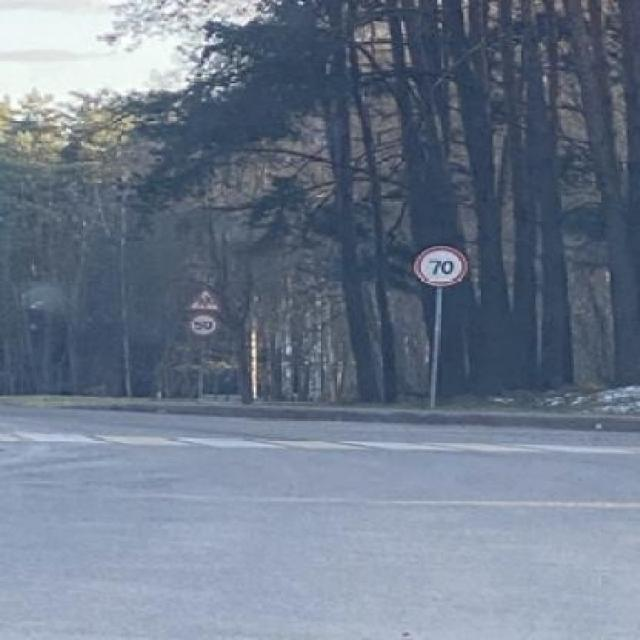forb_speed_over_50: (189, 314, 220, 335)
forb_speed_over_70: (419, 244, 468, 285)
